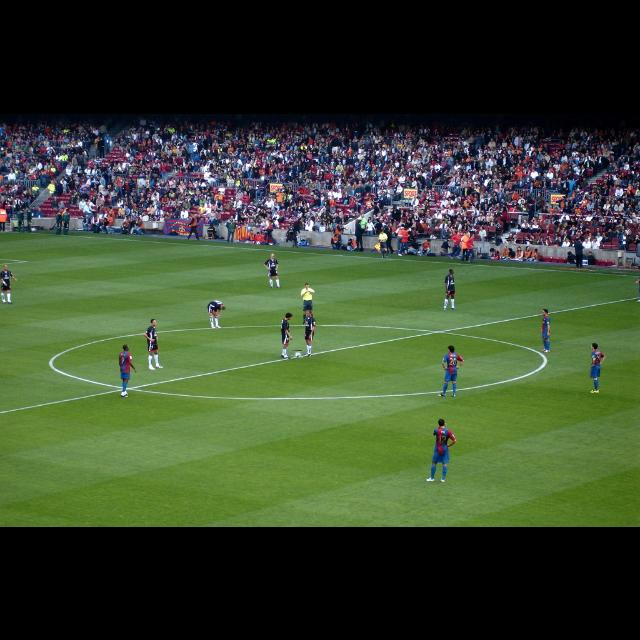Football: (290, 350, 302, 356)
